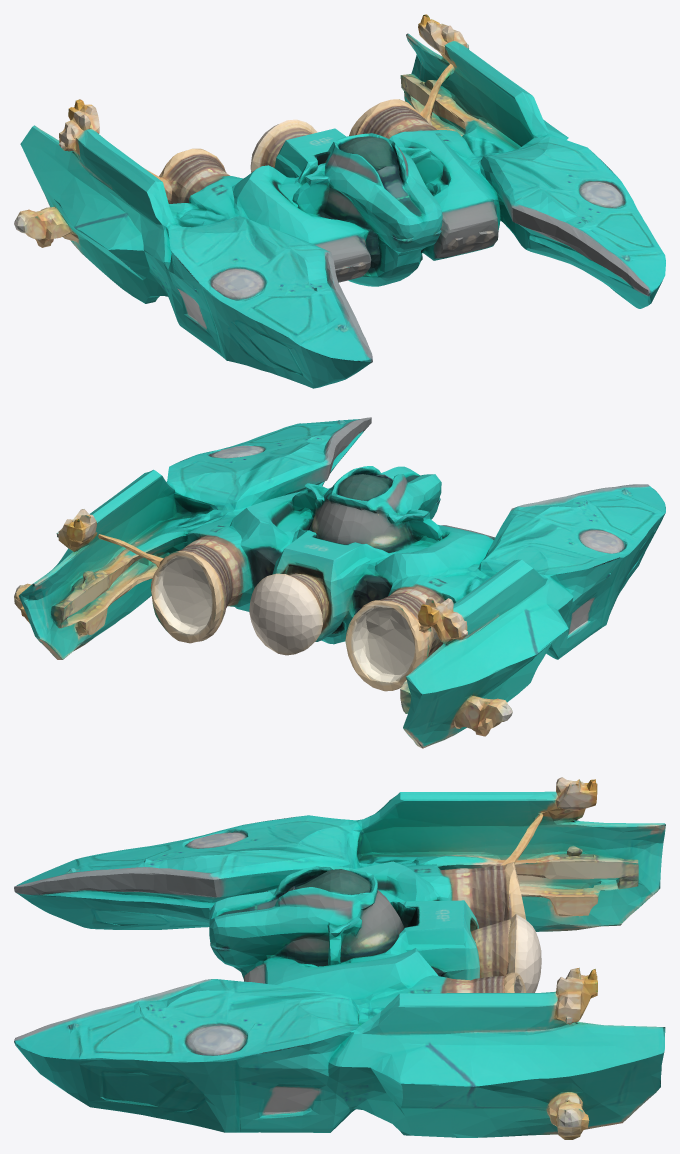
Rendered from Butterfly Shuttle.glb.
The picture shows the model from 3 angles, top to bottom: view 1: azimuth 30°, elevation 25°; view 2: azimuth 150°, elevation 25°; view 3: azimuth 270°, elevation 25°; orthographic projection. The views are drawn at different scales.
Visible parts, largest first — view 1: world; view 2: world; view 3: world.
Part boxes in pixels (x1=…): world: x1=14, y1=14, x2=665, y2=388; world: x1=14, y1=417, x2=665, y2=748; world: x1=14, y1=777, x2=665, y2=1139.
Size of the model in its own units: 0.9867 by 0.2714 by 1.
Materials: 1 (1 with a texture image).
